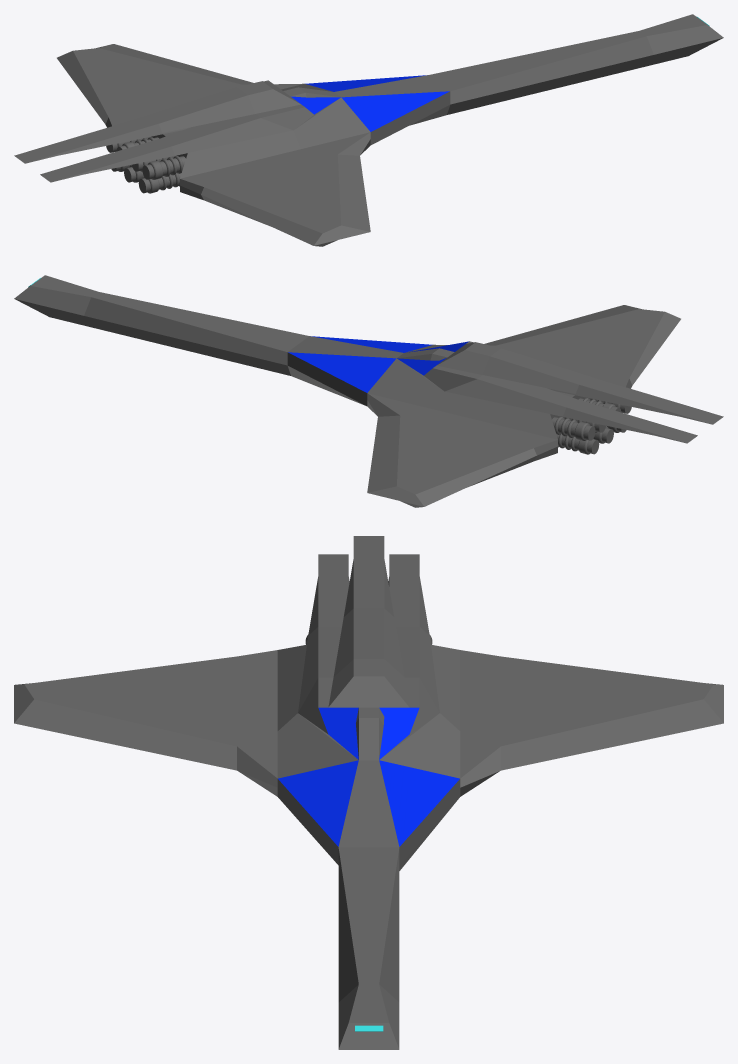
The model's file is UNS Retaliator.fbx.
3 views of the same model, one above another, from view 1: azimuth 30°, elevation 25°; view 2: azimuth 150°, elevation 25°; view 3: azimuth 270°, elevation 25° (orthographic). The views are drawn at different scales.
Parts seen in each view (by area): view 1: Cube.009; view 2: Cube.009; view 3: Cube.009.
Boxes of the visible parts, left/top/right/bottom form: Cube.009: left=14, top=14, right=723, bottom=246; Cube.009: left=14, top=275, right=723, bottom=507; Cube.009: left=14, top=536, right=723, bottom=1049.
Bounding box in the file's own units: 5350 × 500 × 3500.
